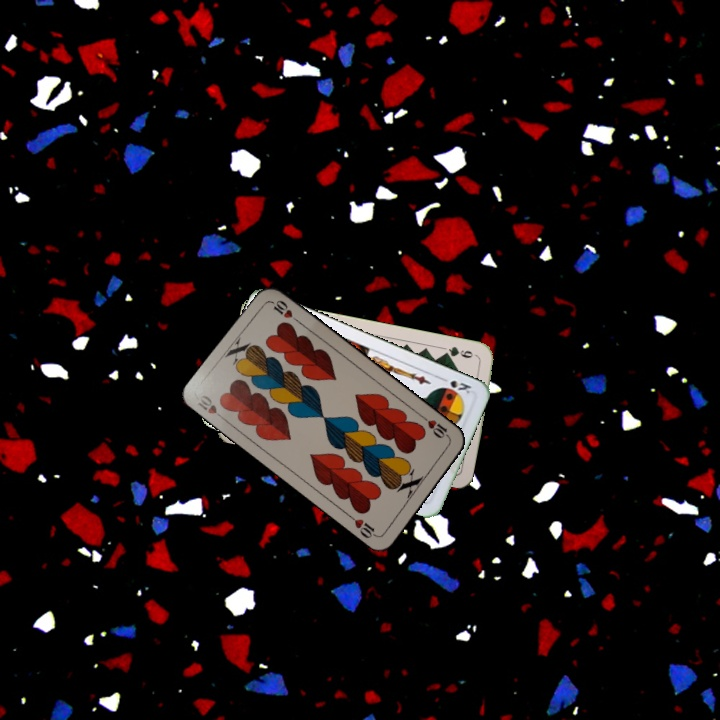G9: (439, 342, 480, 361)
H10: (193, 390, 229, 424), (418, 413, 453, 442)
SK: (436, 373, 474, 396)
